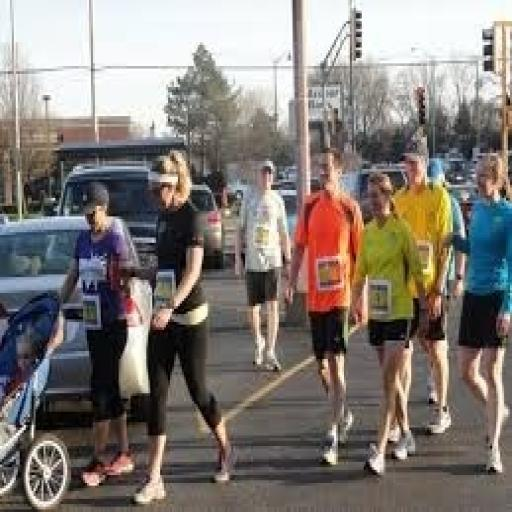running: (131, 148, 239, 507), (48, 179, 142, 491), (282, 145, 368, 470), (346, 169, 433, 480), (449, 150, 510, 478), (231, 156, 295, 374)
